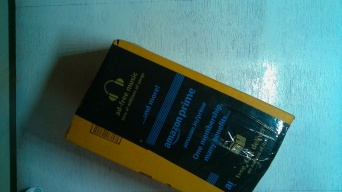a: (65, 30, 303, 192)
